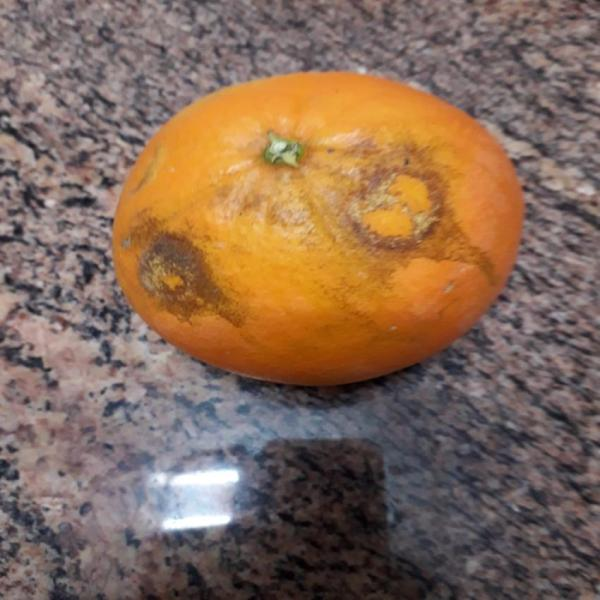Trips: (101, 54, 529, 403)
